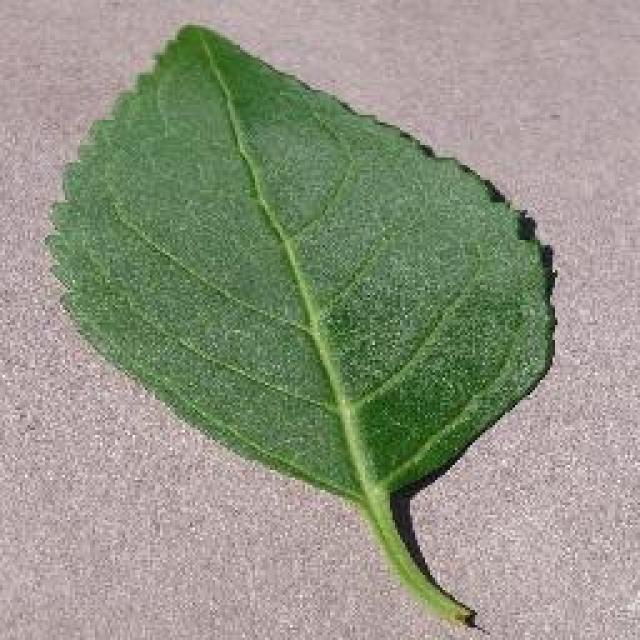Cherry___healthy: (32, 7, 568, 635)
